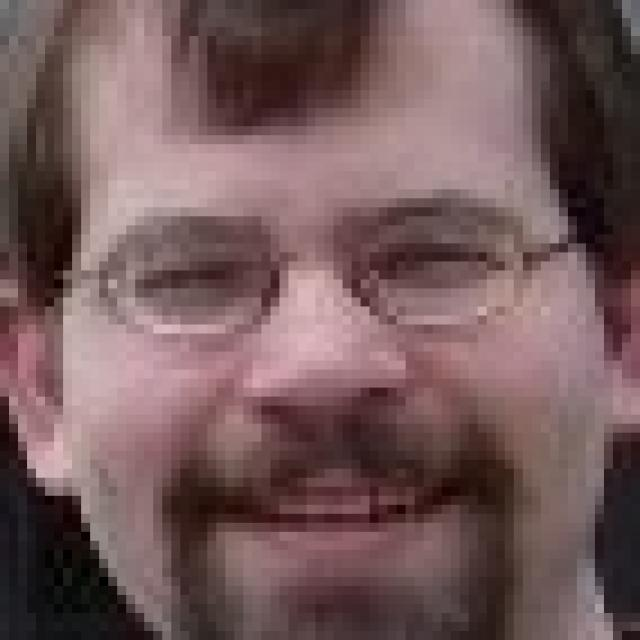Eyeclosed: (143, 257, 237, 298)
